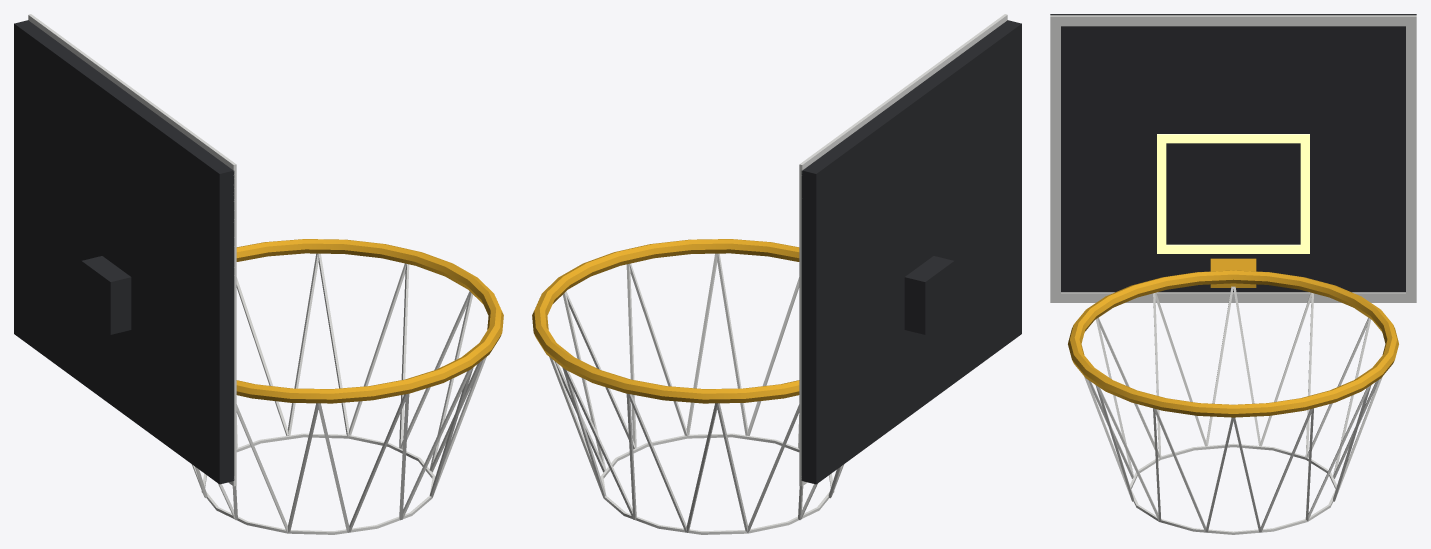
File: Sport_Hoop.glb
3 renders of one model, left to right at view 1: azimuth 30°, elevation 25°; view 2: azimuth 150°, elevation 25°; view 3: azimuth 270°, elevation 25°, orthographic. The views are drawn at different scales.
Visible parts, largest first — view 1: Sport_Hoop; view 2: Sport_Hoop; view 3: Sport_Hoop.
Boxes of the visible parts, x1,y1,x2,y2 form: Sport_Hoop: [14, 14, 503, 534]; Sport_Hoop: [532, 14, 1021, 534]; Sport_Hoop: [1050, 14, 1416, 534].
Size of the model in its own units: 2.59 by 2.84 by 2.4.
